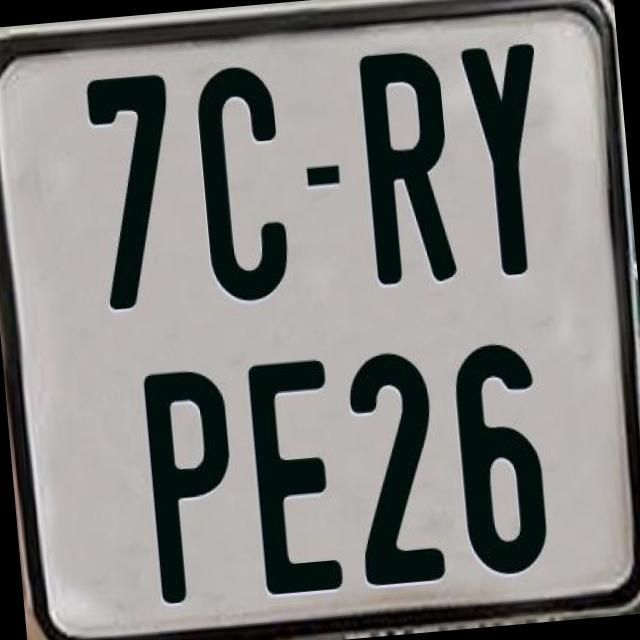2: (343, 348, 447, 588)
6: (449, 338, 549, 576)
7: (81, 72, 181, 317)
C: (191, 62, 294, 306)
E: (246, 353, 345, 592)
P: (142, 365, 248, 612)
R: (357, 45, 459, 282)
Y: (457, 43, 553, 278)
